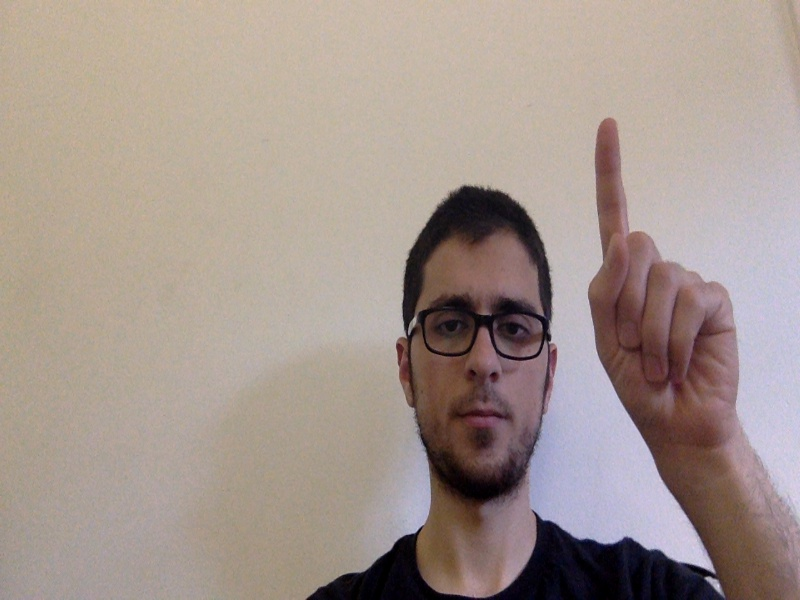1-hand: (590, 116, 738, 441)
